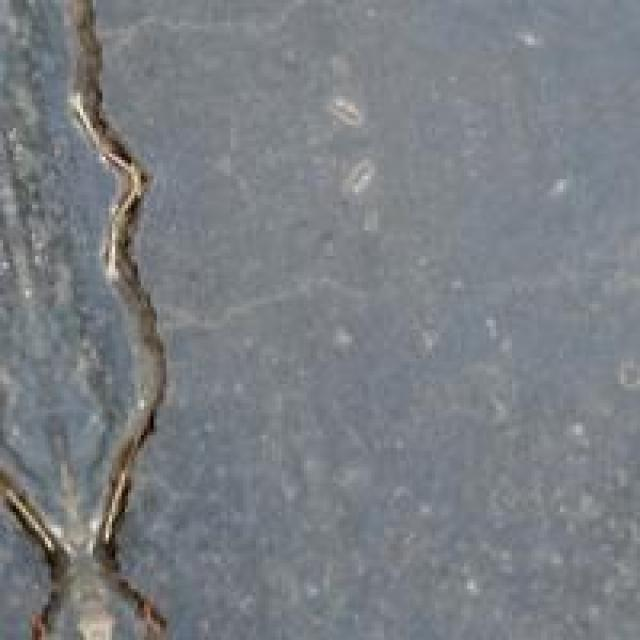Crack: (0, 6, 211, 636)
